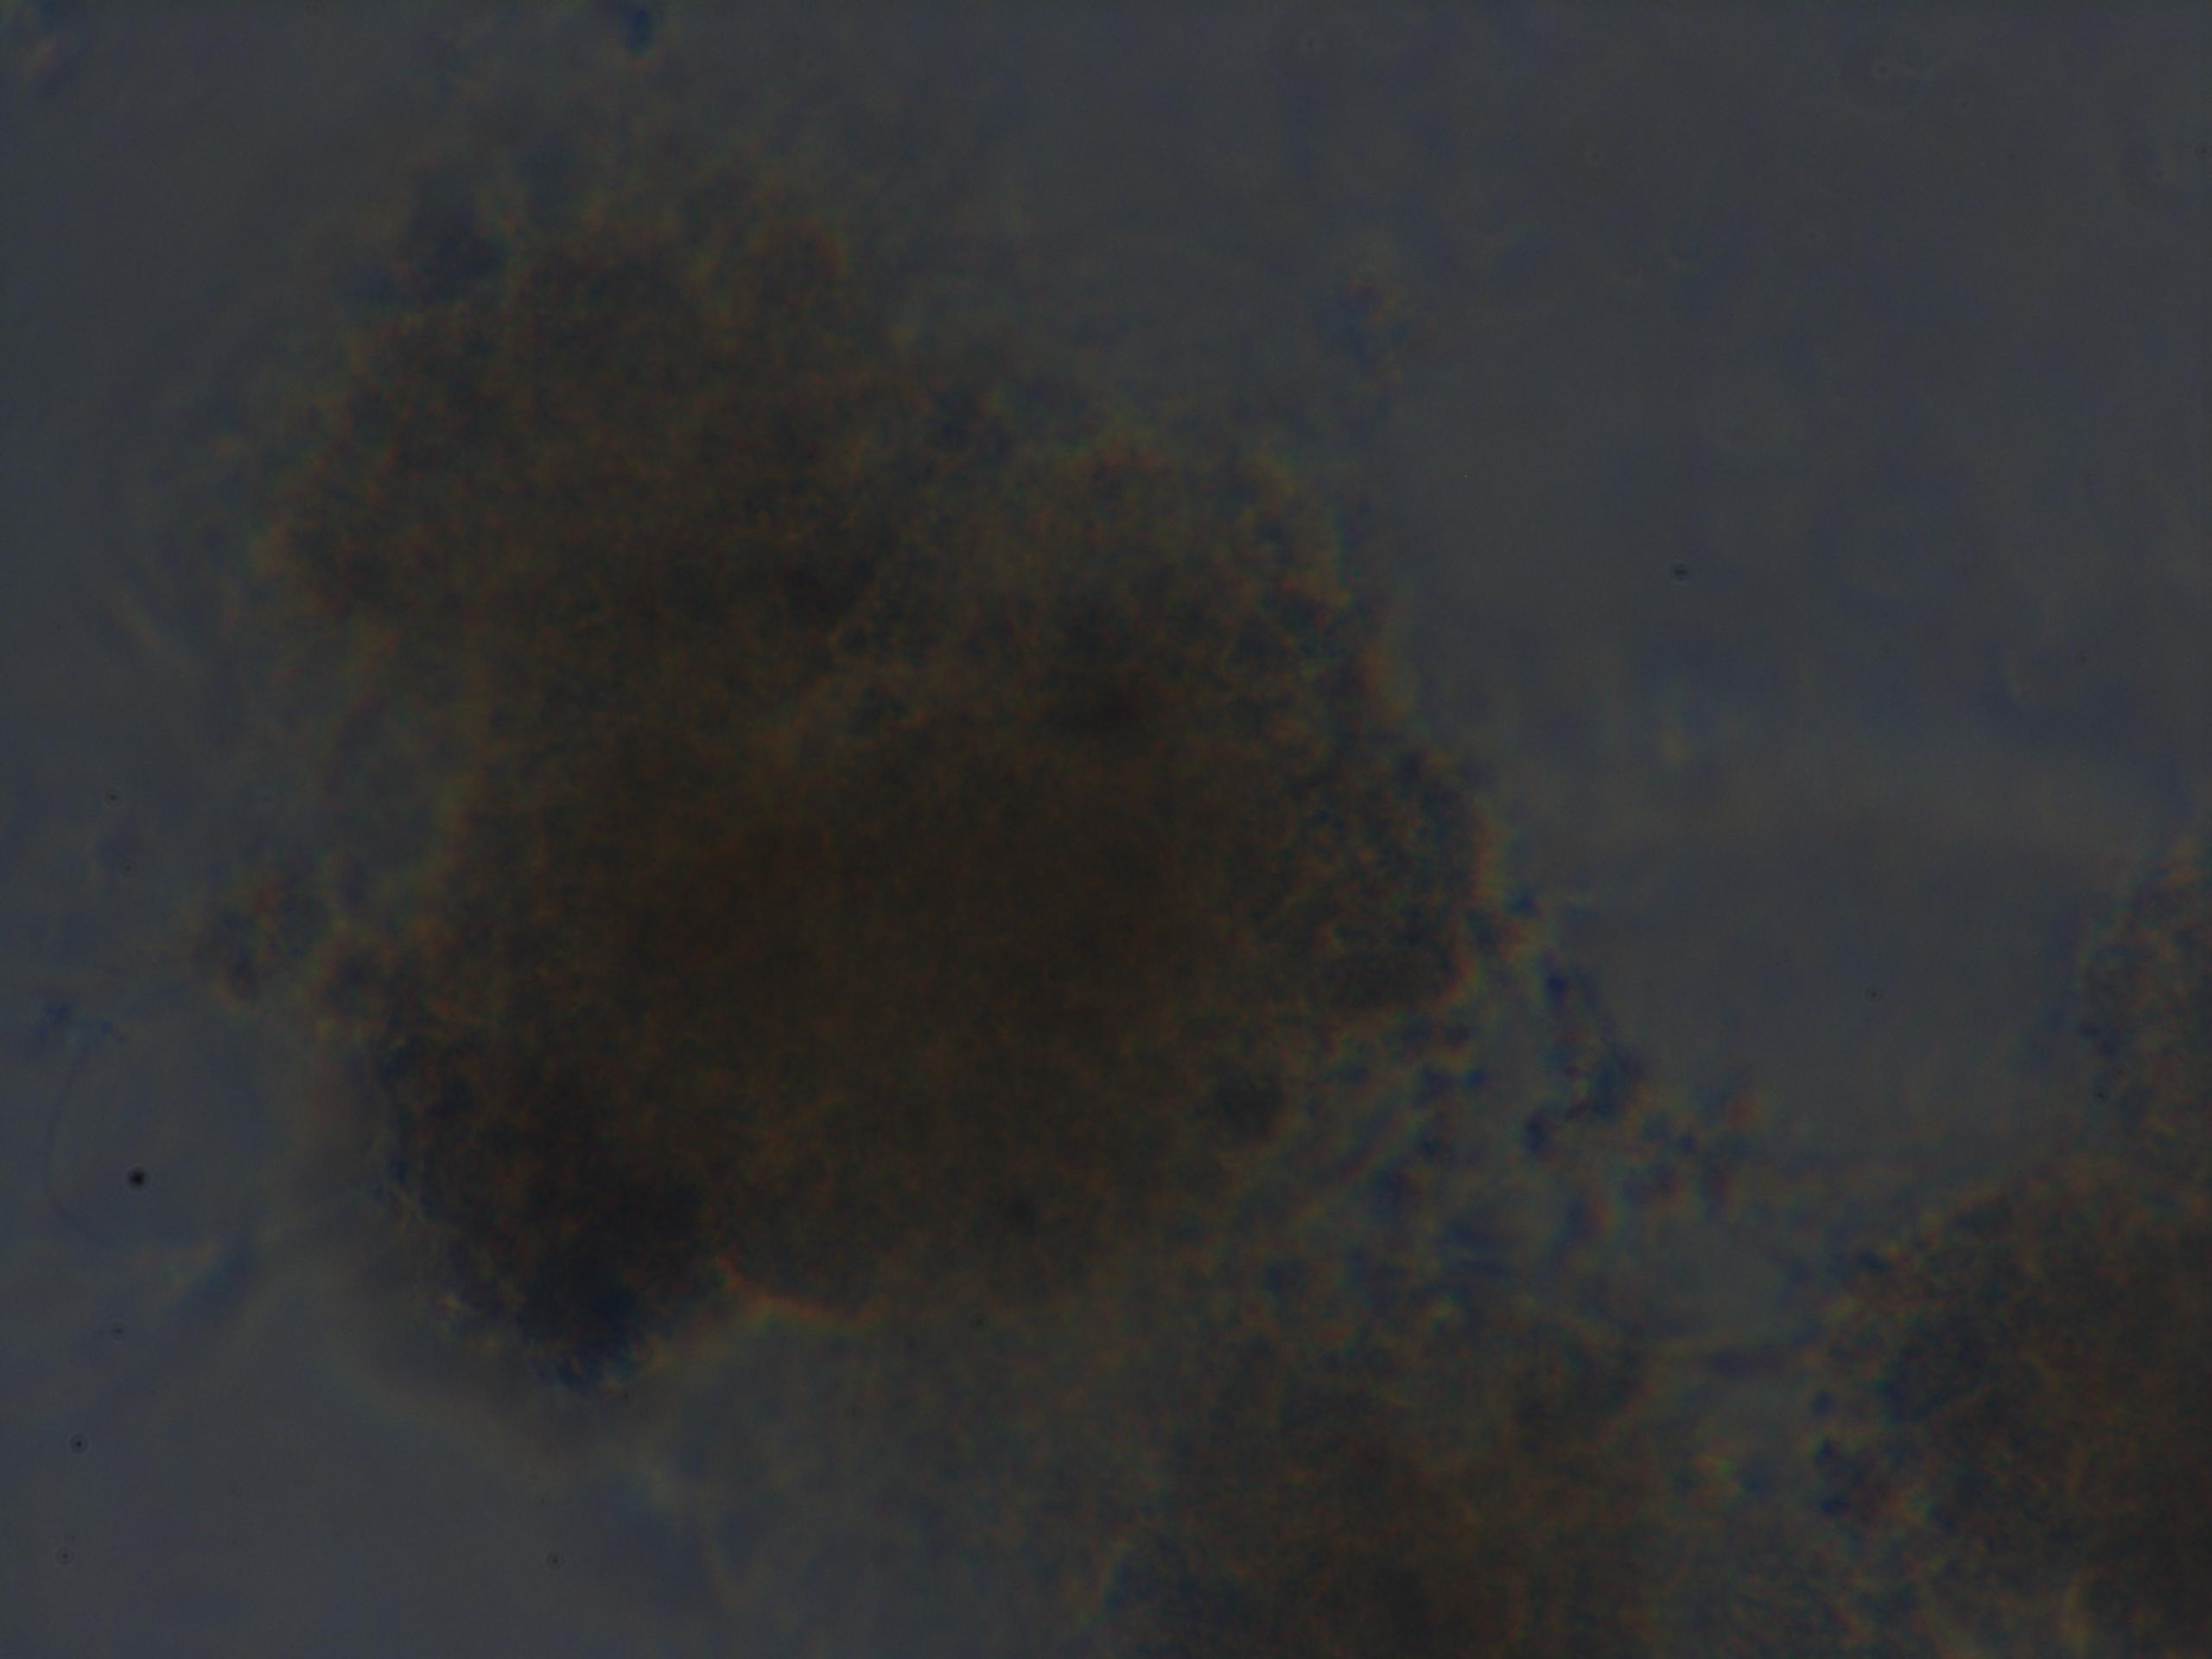spherical_floc: (232, 185, 1512, 1385)
